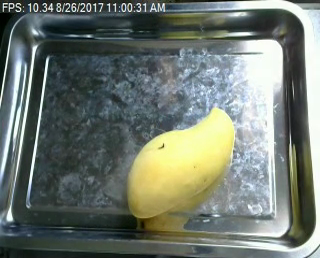Mango: (126, 105, 236, 223)
